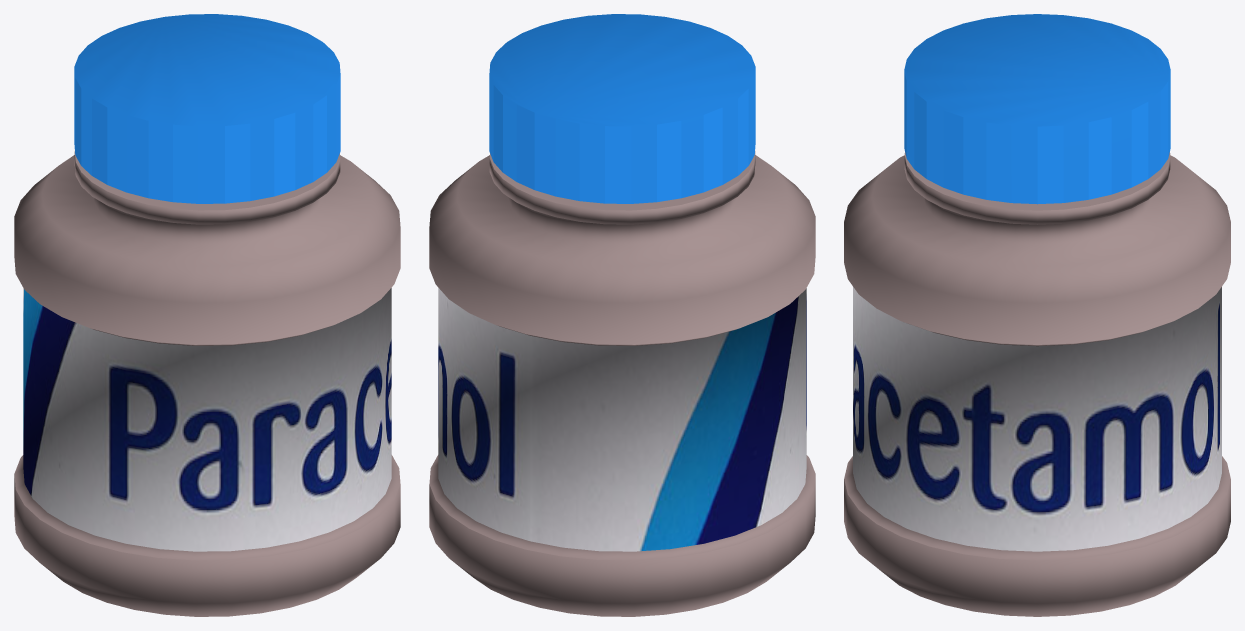
The model's file is Med_Bottle_S.fbx.
The picture shows the model from 3 angles, left to right: view 1: azimuth 30°, elevation 25°; view 2: azimuth 150°, elevation 25°; view 3: azimuth 270°, elevation 25°; orthographic projection.
Visible parts, largest first — view 1: Cylinder; view 2: Cylinder; view 3: Cylinder.
Boxes of the visible parts, box(x1,y1,x2,y2) form: Cylinder: box(14, 14, 400, 616); Cylinder: box(429, 14, 815, 616); Cylinder: box(844, 14, 1230, 616).
Bounding box in the file's own units: 200 × 272 × 200.
